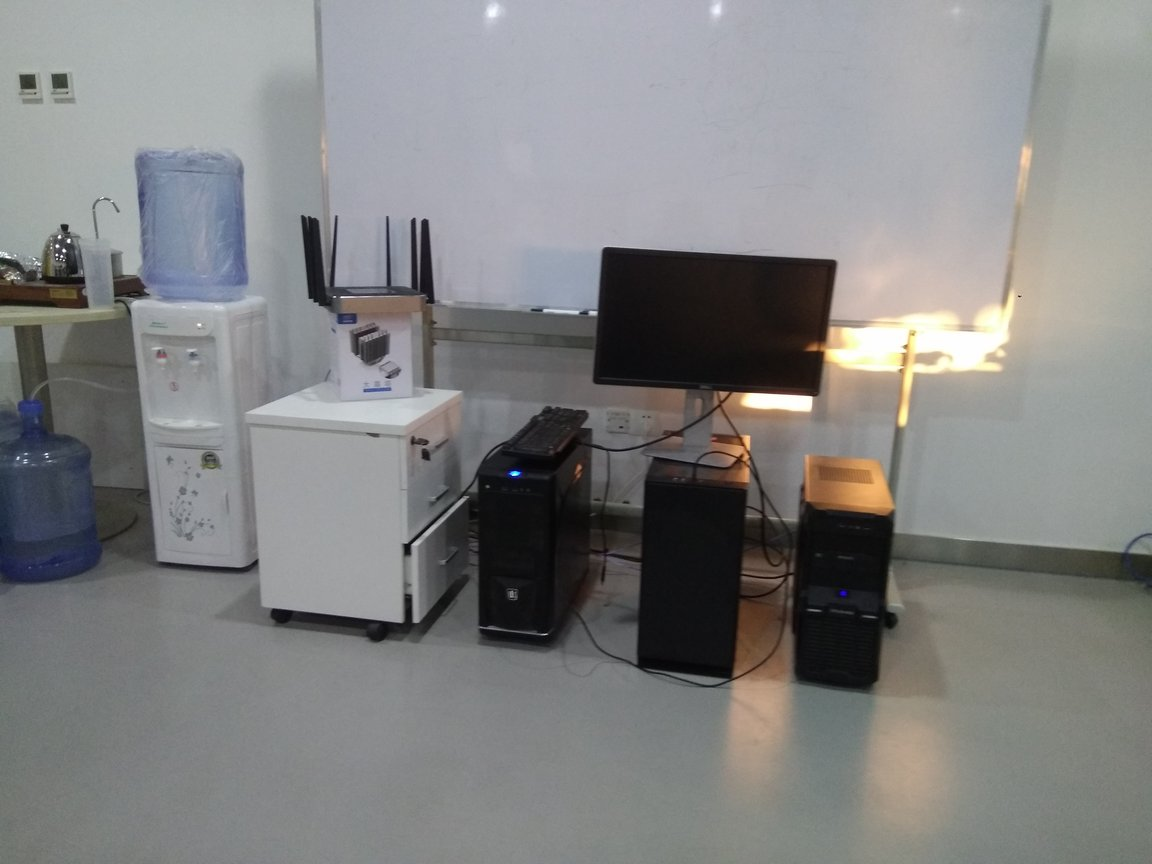computer: (473, 425, 597, 650), (794, 455, 899, 690), (643, 424, 734, 685)
drawer chest: (248, 379, 460, 651)
monitor: (594, 240, 834, 463)
scuttlebutt: (129, 140, 250, 303), (5, 393, 101, 592)
water dispenser: (128, 298, 269, 568)
